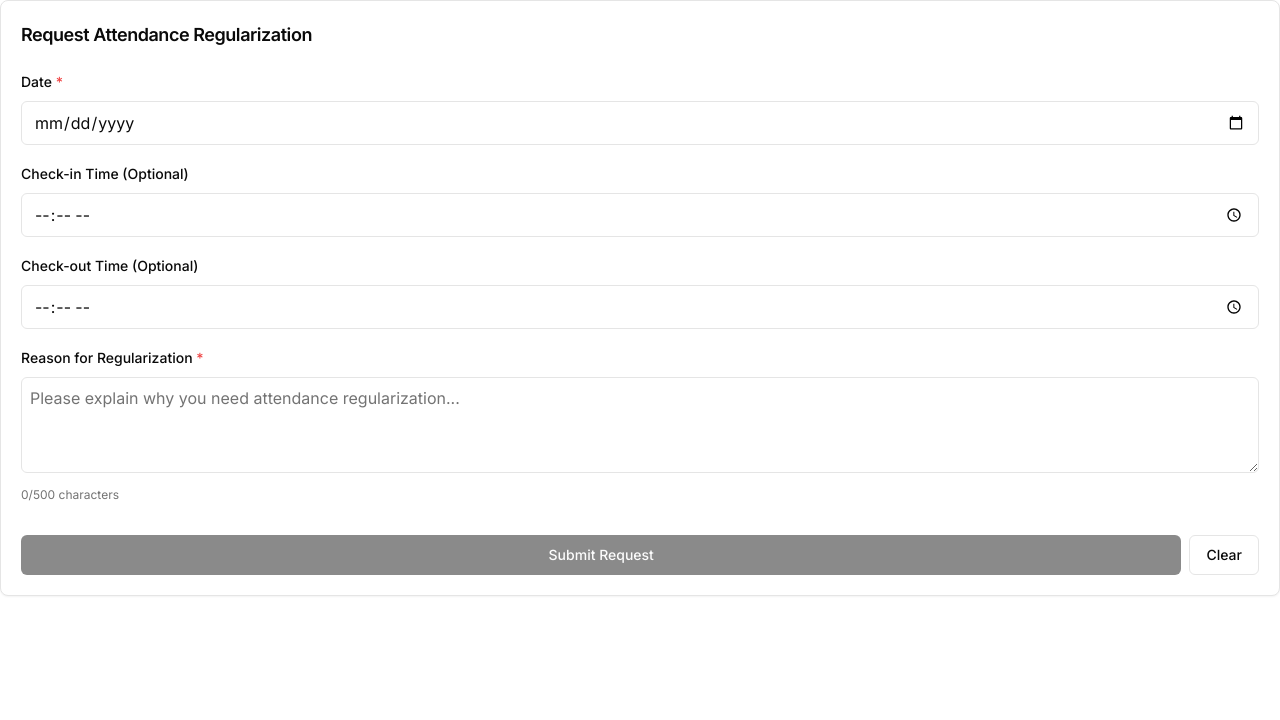
it: RegularizationRequest Component › should clear form when Clear button is clicked
In the date field labelled "Date *": (640, 123) [21,101,1259,145], type "2024-01-15"
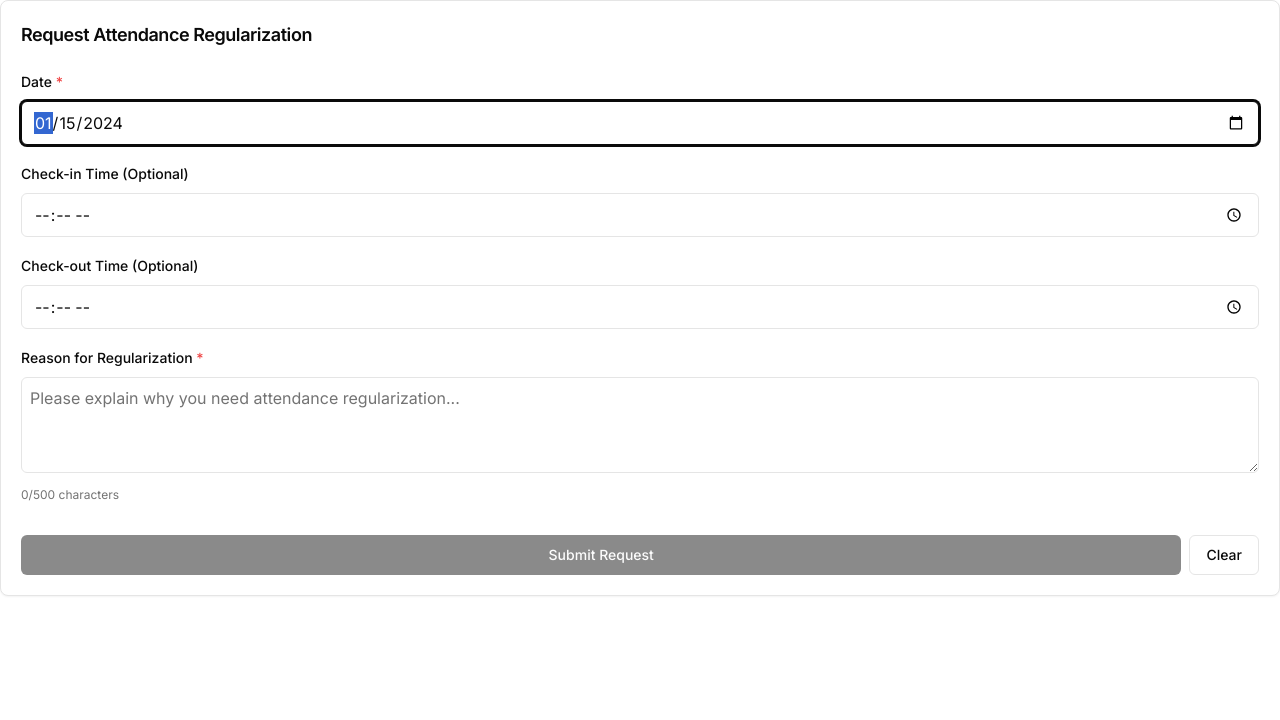
In the time field labelled "Check-in Time (Optional)": (640, 215) [21,193,1259,237], type "09:00"
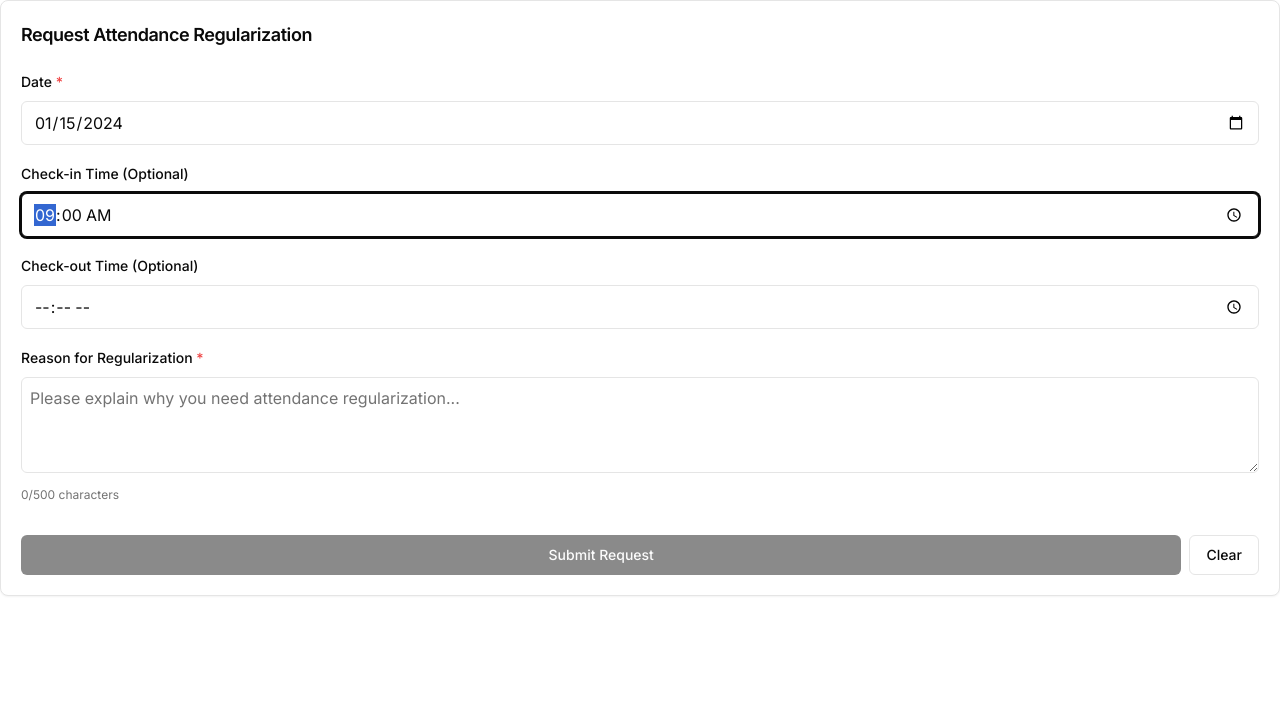
In the time field labelled "Check-out Time (Optional)": (640, 307) [21,285,1259,329], type "17:30"
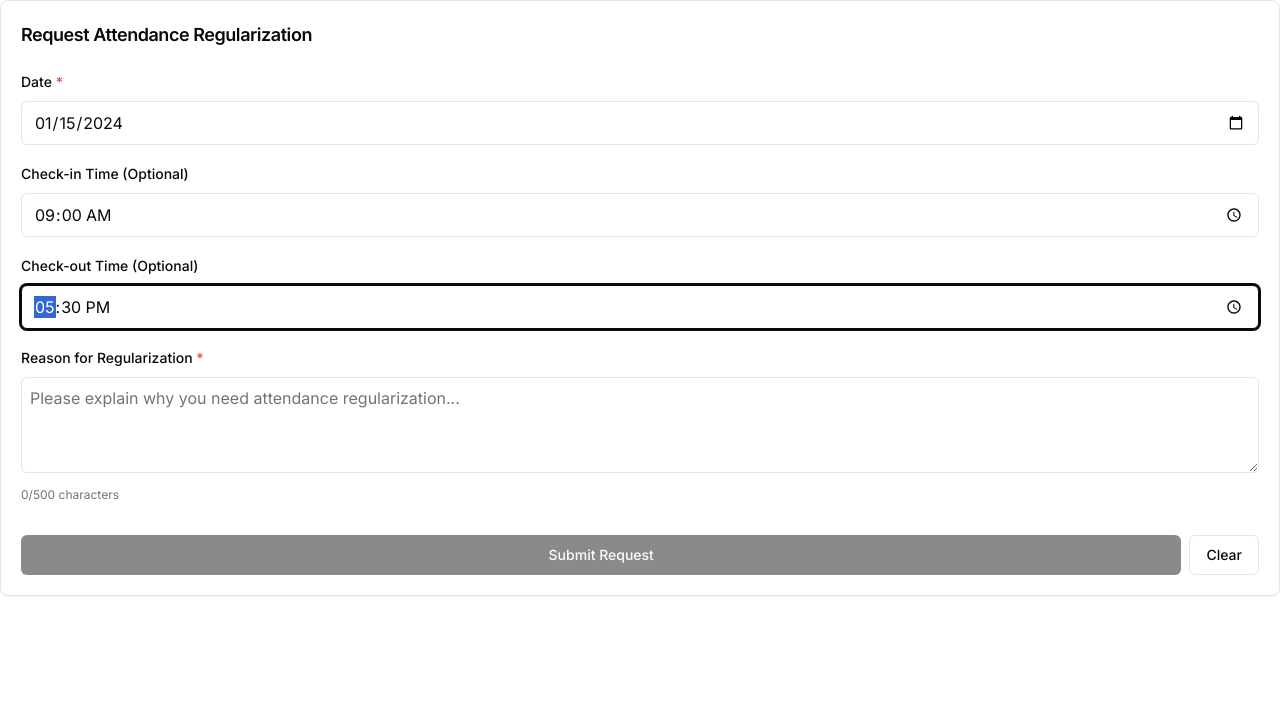
In the text box with placeholder "Please explain why you need attendance regularization...": (640, 425) [21,377,1259,473], type "System was down"
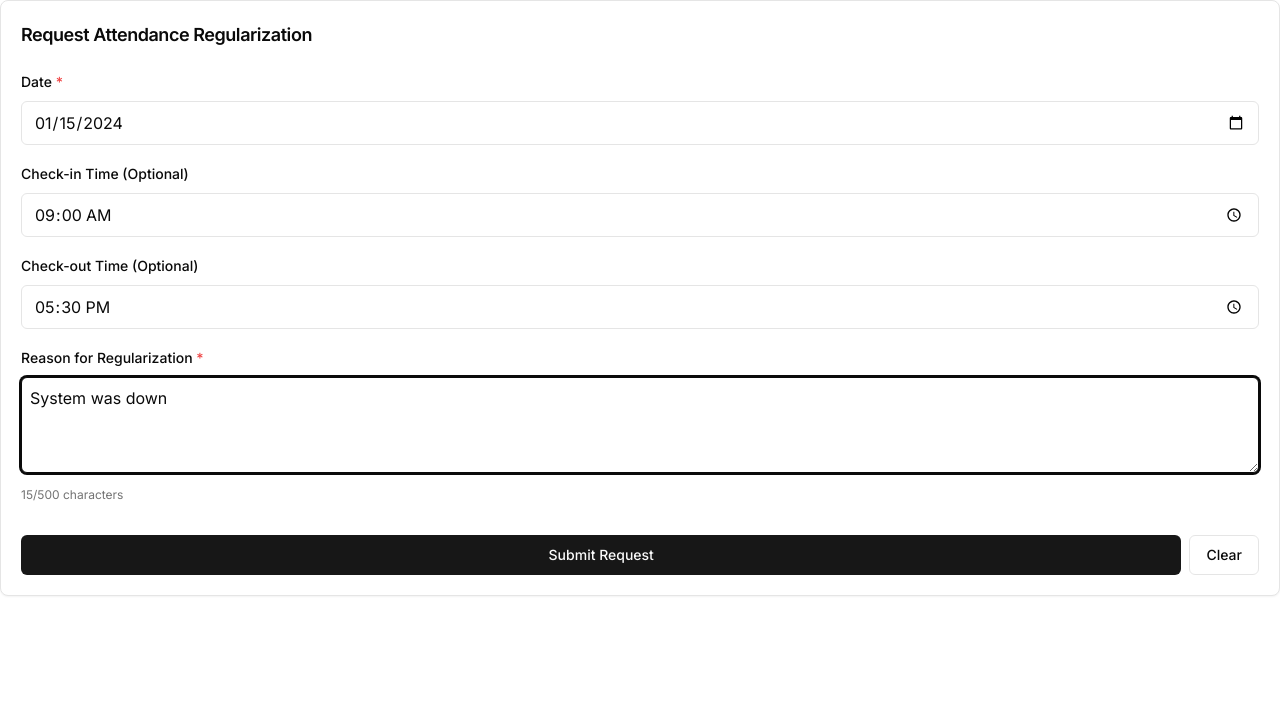
Click the button "Clear": (1224, 555) [1190,535,1259,575]
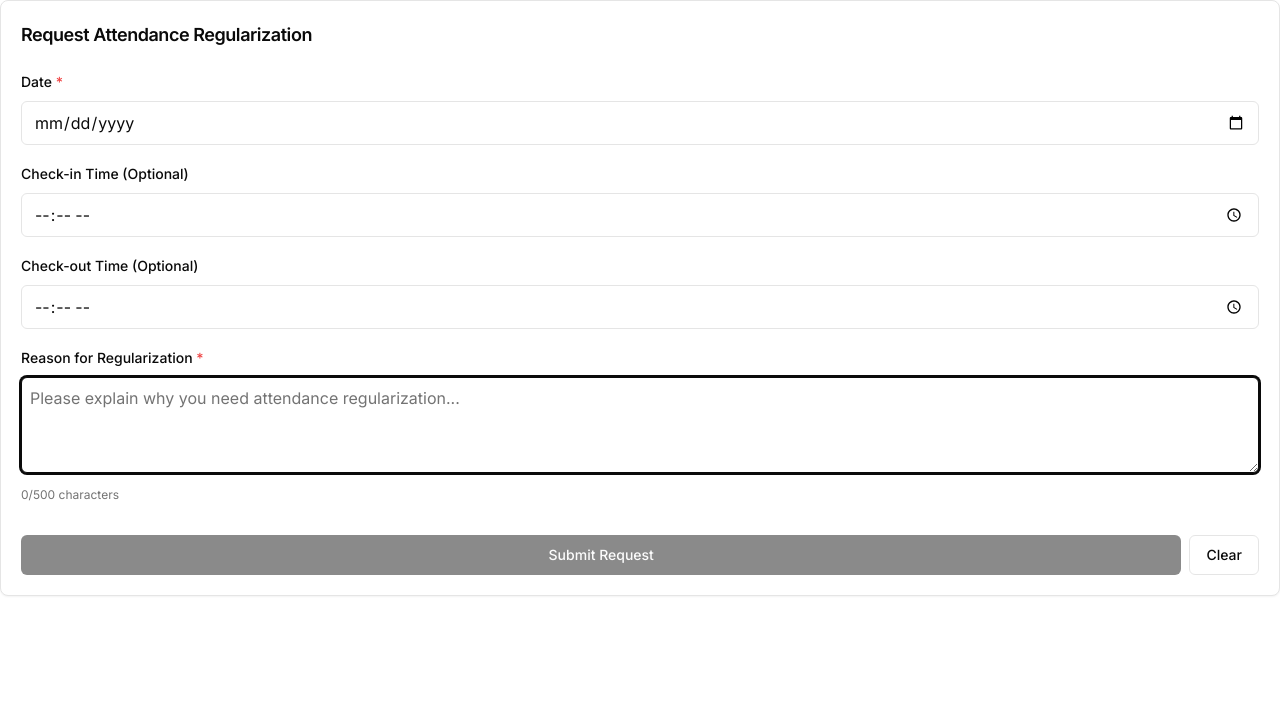
Check: the date field labelled "Date *" is empty, box [21,101,1259,145]
Check: the time field labelled "Check-in Time (Optional)" is empty, box [21,193,1259,237]
Check: the time field labelled "Check-out Time (Optional)" is empty, box [21,285,1259,329]
